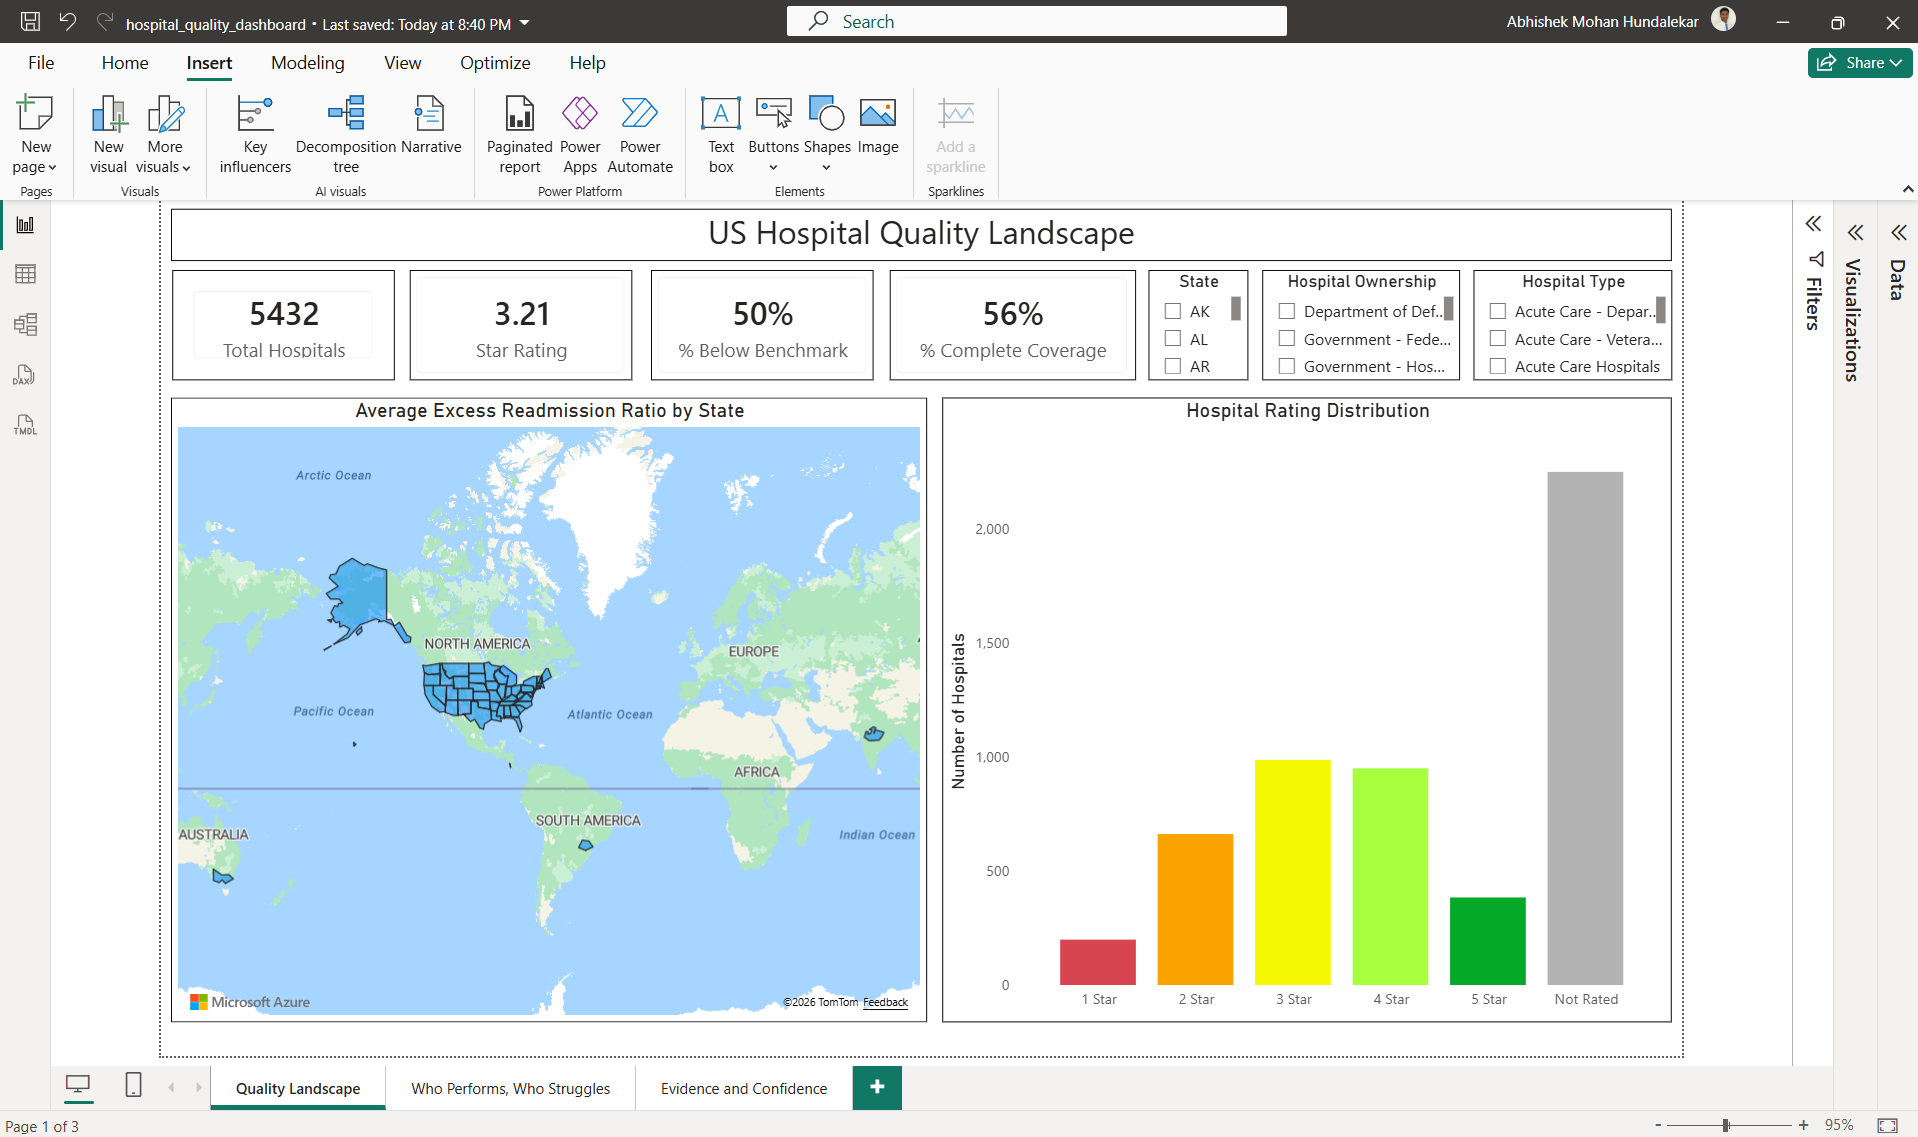

This screenshot's page, from the dashboard's own definition file:
{"tool":"powerbi","page":{"name":"Quality Landscape","canvas":[1280,720],"ordinal":0},"visuals":[{"type":"textbox","box":[8.4,7.4,1262.7,44.2],"z":0},{"type":"azureMap","title":"Average Excess Readmission Ratio by State","fields":{"Category":["v_hospital_master.state"]},"box":[8.1,166.3,636,525.6],"z":1000},{"type":"clusteredColumnChart","title":"Hospital Rating Distribution","fields":{"Category":["v_hospital_master.Rating Label"],"Y":["CountNonNull(v_hospital_master.facility_id)"]},"box":[657,166.3,614,525.6],"z":2000},{"type":"slicer","title":"State","fields":{"Values":["v_hospital_master.state"]},"box":[830.2,59.3,83.7,93],"z":3000},{"type":"slicer","title":"Hospital Ownership","fields":{"Values":["v_hospital_master.hospital_ownership"]},"box":[926.7,59.3,166.3,93],"z":4000},{"type":"slicer","title":"Hospital Type","fields":{"Values":["v_hospital_master.hospital_type"]},"box":[1103.5,59.3,167.4,93],"z":5000},{"type":"cardVisual","fields":{"Data":["v_hospital_master.% Below Benchmark"]},"box":[411.6,59.3,187.2,93],"z":6000},{"type":"cardVisual","fields":{"Data":["v_hospital_master.% Complete Coverage"]},"box":[612.8,59.3,207,93],"z":7000},{"type":"cardVisual","fields":{"Data":["v_hospital_master.Total Hospitals"]},"box":[9.3,59.3,187.2,93],"z":8000},{"type":"cardVisual","fields":{"Data":["v_hospital_master.Avg Star Rating"]},"box":[209.3,59.3,187.2,93],"z":9000}]}

Visuals, with their boxes on the page's 1280x720 design canvas (x1, y1, x2, y2). These are canvas units, not pixel positions in the 1918x1137 screenshot, which may show the page scaled, cropped or inside an application window:
textbox: 8:7:1271:52
"Average Excess Readmission Ratio by State" azureMap: 8:166:644:692
"Hospital Rating Distribution" clusteredColumnChart: 657:166:1271:692
"State" slicer: 830:59:914:152
"Hospital Ownership" slicer: 927:59:1093:152
"Hospital Type" slicer: 1104:59:1271:152
cardVisual - v_hospital_master.% Below Benchmark: 412:59:599:152
cardVisual - v_hospital_master.% Complete Coverage: 613:59:820:152
cardVisual - v_hospital_master.Total Hospitals: 9:59:196:152
cardVisual - v_hospital_master.Avg Star Rating: 209:59:396:152
